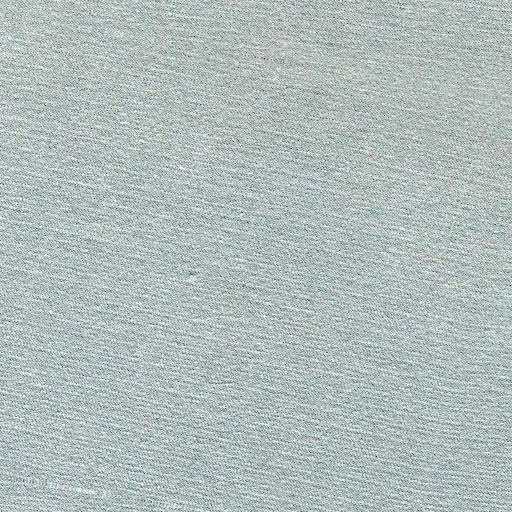knot: (183, 261, 210, 294)
